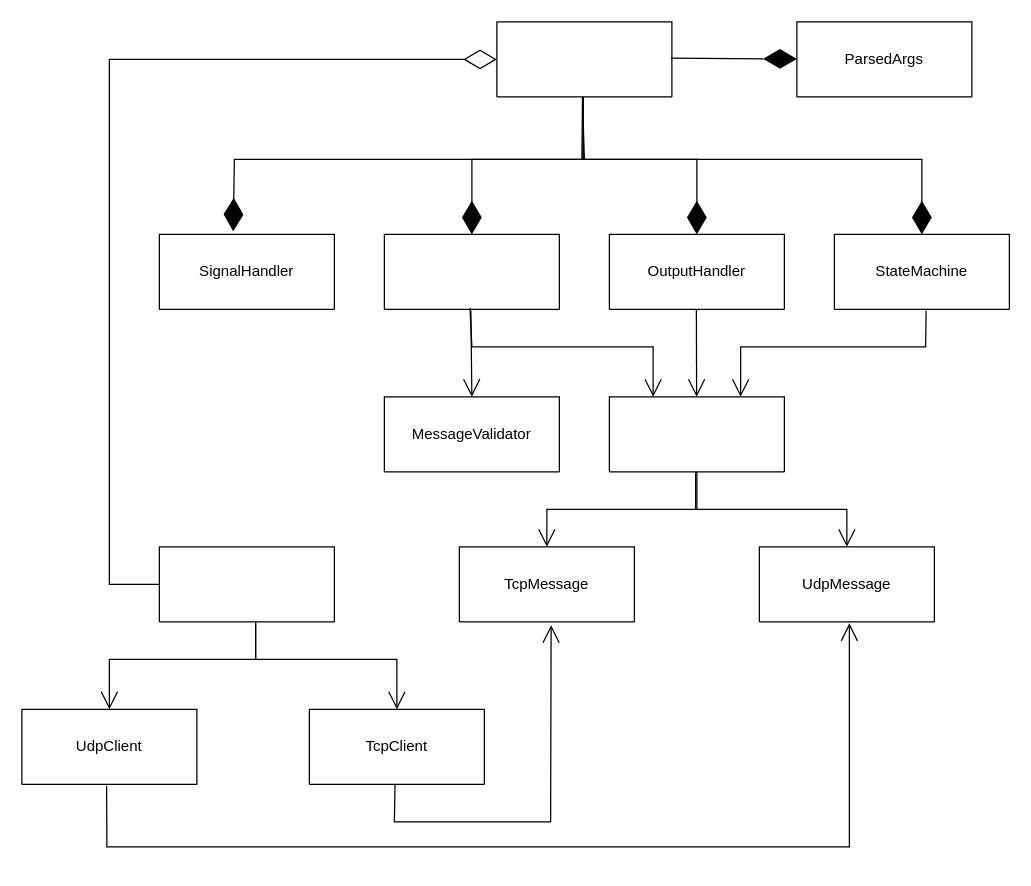
Some shapes in this 1031 by 886 pixel diagram are drawn without their labels. The shapes that lost their labels are listed below. From the top down, each one's box as (x1, y1, x2, y2) in pixels, then its label:
(496, 21, 672, 97): ClientApplication
(383, 233, 559, 309): InputHandler
(608, 396, 784, 472): MessageBase
(158, 546, 334, 622): Client
